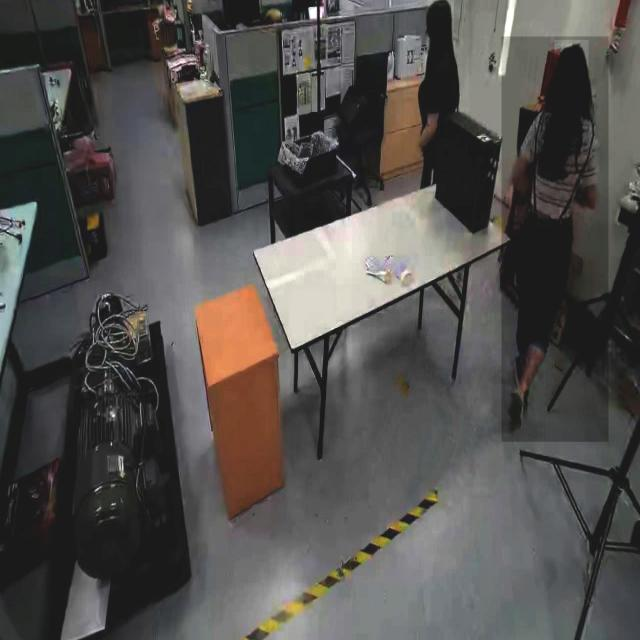head_nohelmet: (554, 40, 588, 76), (427, 0, 454, 19)
person: (501, 36, 609, 442), (403, 0, 469, 192)
shoes: (503, 378, 528, 441)
